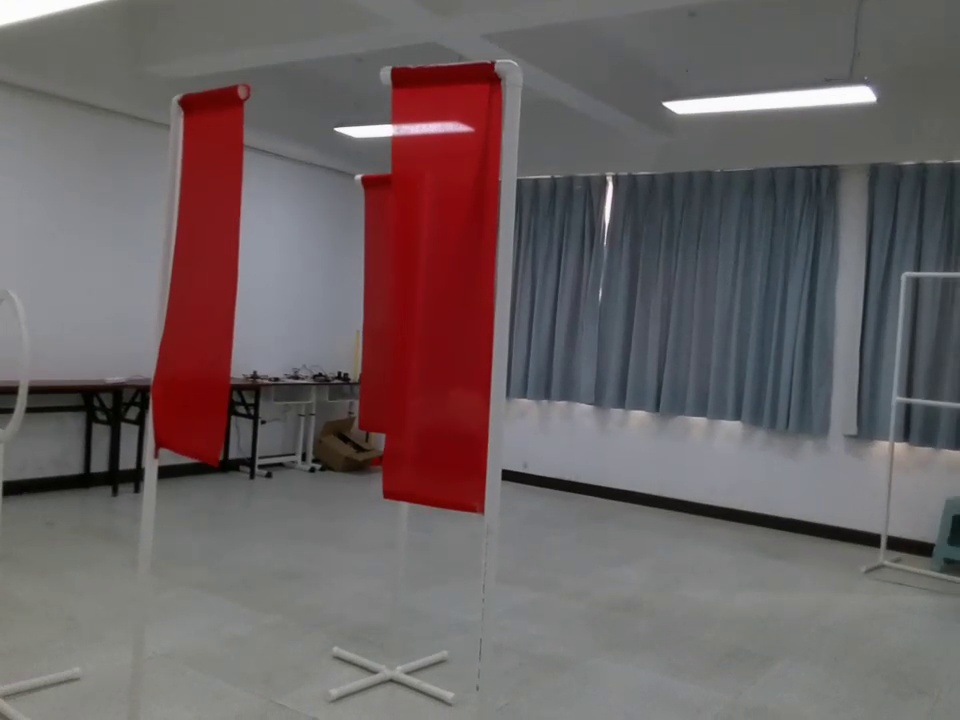qi: (367, 60, 516, 523), (143, 75, 258, 474)
